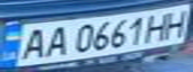0: (72, 20, 96, 54)
1: (124, 15, 151, 46)
6: (90, 18, 115, 52), (109, 16, 133, 50)
A: (15, 25, 51, 61), (39, 24, 72, 58)
H: (142, 10, 175, 43), (160, 7, 193, 39)
